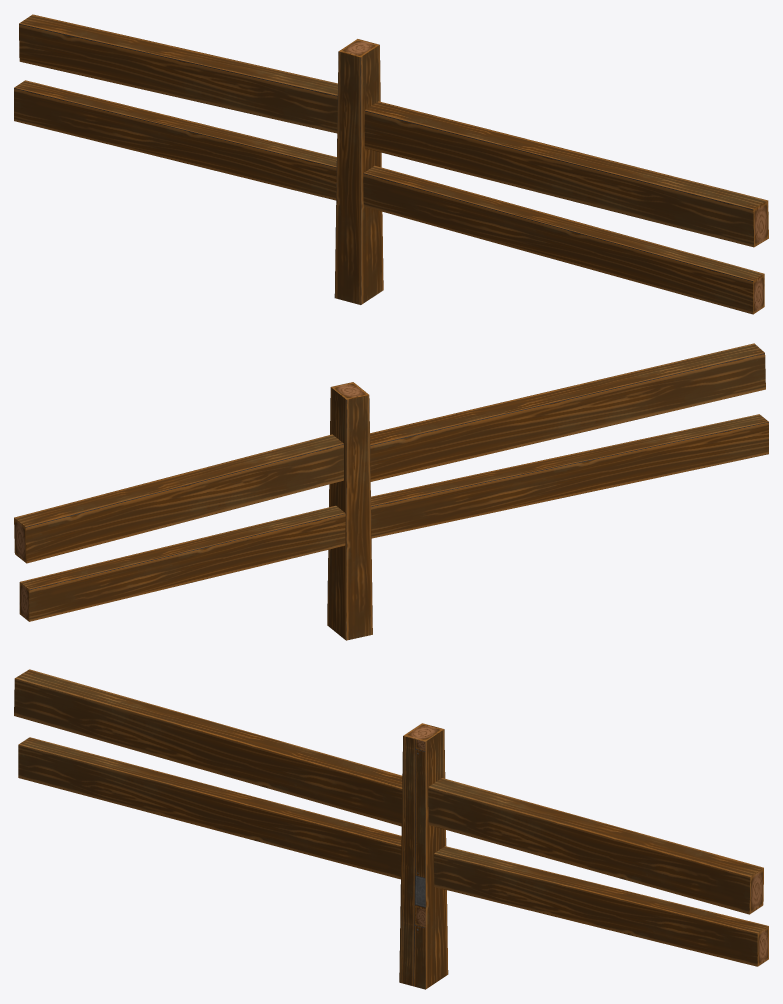
3 views of the same model, one above another, from view 1: azimuth 90°, elevation 25°; view 2: azimuth 150°, elevation 25°; view 3: azimuth 270°, elevation 25° (orthographic). The views are drawn at different scales.
Visible parts, largest first — view 1: Cube.019; view 2: Cube.019; view 3: Cube.019.
Part boxes in pixels (x1,y1,x2,y2): Cube.019: (14, 14, 768, 314); Cube.019: (14, 343, 768, 640); Cube.019: (14, 669, 768, 989).
Bounding box in the file's own units: 252 × 142 × 395.
1 material, 1 textured.
